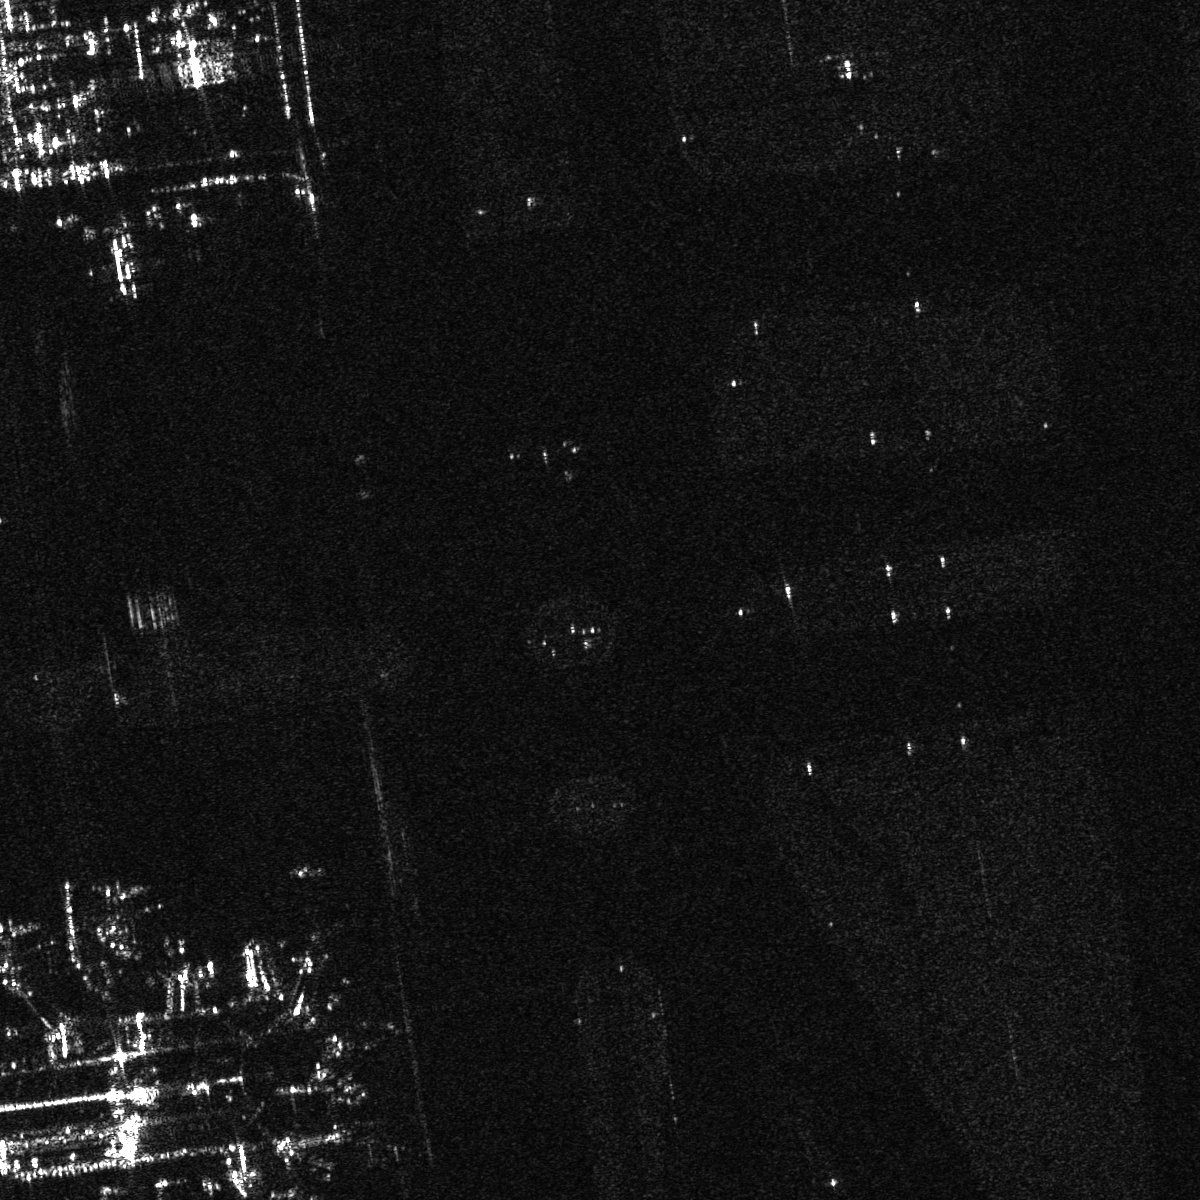A220: (86, 867, 145, 916)
Boeing737: (86, 224, 166, 308)
